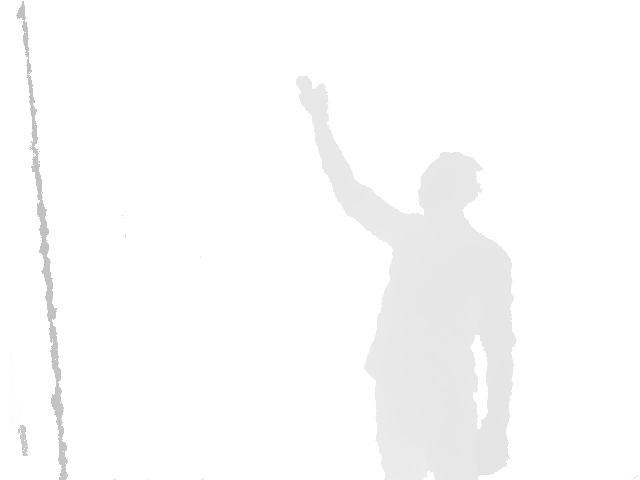hand: (295, 76, 331, 125)
hand_down: (477, 425, 510, 475)
head: (417, 152, 484, 213)
person: (295, 76, 517, 480)
